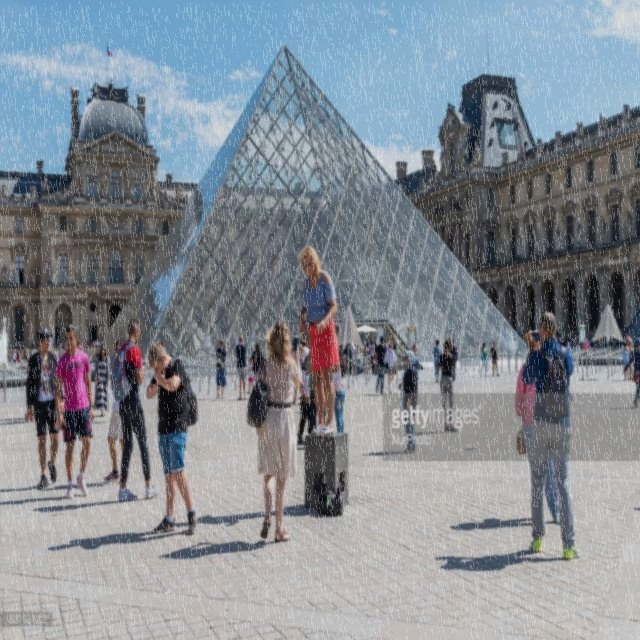pessoa: (520, 306, 585, 565), (244, 316, 305, 546), (144, 336, 202, 539), (110, 315, 162, 507), (514, 340, 560, 526), (298, 245, 342, 438), (52, 320, 97, 502), (25, 326, 66, 492), (2, 314, 100, 362), (102, 394, 132, 486), (396, 348, 420, 456), (436, 333, 460, 434), (305, 349, 327, 436), (339, 331, 377, 376), (90, 342, 112, 419), (329, 346, 346, 434), (296, 354, 312, 447), (622, 336, 640, 411), (558, 327, 620, 348), (213, 337, 230, 402), (289, 339, 304, 406), (235, 334, 248, 402), (383, 338, 398, 396), (373, 334, 387, 396), (450, 336, 460, 384), (624, 334, 634, 382), (620, 340, 631, 382), (432, 338, 442, 384), (148, 164, 160, 202), (252, 342, 264, 379), (479, 341, 490, 378), (300, 338, 312, 370), (490, 341, 500, 378), (1, 258, 9, 292), (247, 357, 254, 395), (28, 263, 38, 289), (46, 260, 55, 286), (623, 332, 628, 342)
